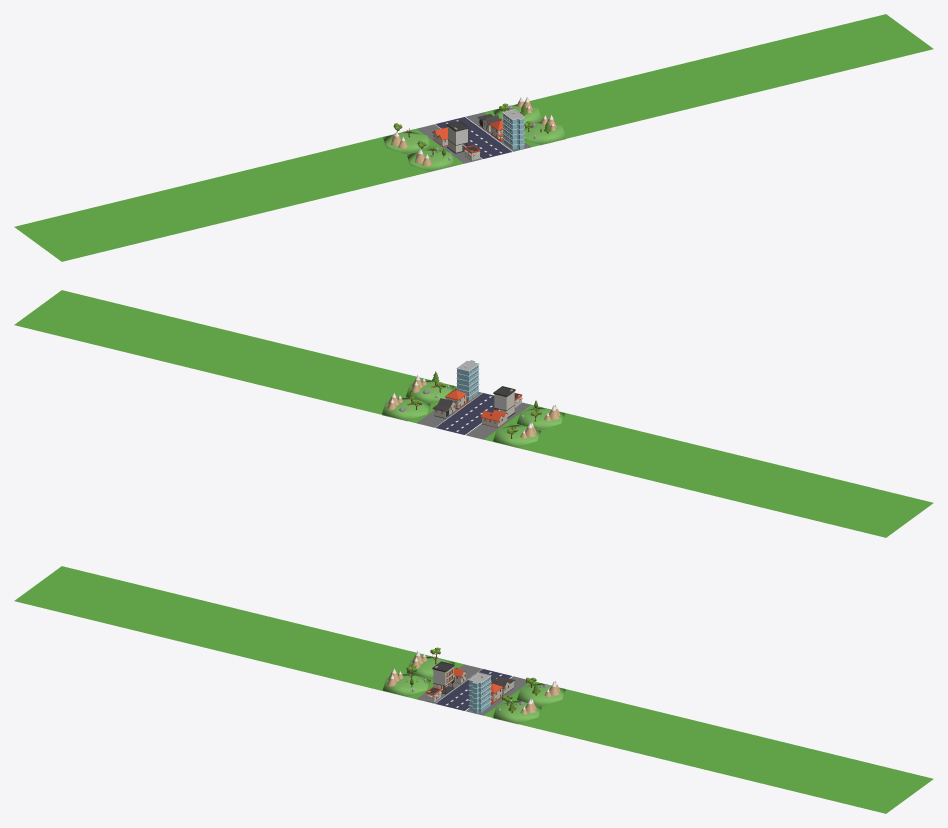
Rendered from naseljev5.glb.
The picture shows the model from 3 angles, top to bottom: view 1: azimuth 30°, elevation 25°; view 2: azimuth 150°, elevation 25°; view 3: azimuth 330°, elevation 25°; orthographic projection.
Parts seen in each view (by area): view 1: Plane.007, Plane.003, Plane.005, Plane.004, apartments1.002_Plane.008, Plane.008, Object_8.002, Box002, Object_8.001, Object_8.004; view 2: Plane.004, Plane.005, Plane.003, Plane.007, apartments1.002_Plane.008, Box002_RoadBase_0.001, Object_8.005, Object_8.004, Object_8.002, Object_8.001, Plane.002, Plane.006; view 3: Plane.005, Plane.003, Plane.007, Plane.004, apartments1.002_Plane.008, Plane.008, Object_8.002, Object_8.001, Object_8.005, Box002.
Boxes of the visible parts, x1,y1,x2,y2 form: Plane.007: [14, 128, 439, 244]; Plane.003: [524, 31, 933, 147]; Plane.005: [484, 14, 909, 122]; Plane.004: [38, 146, 463, 261]; apartments1.002_Plane.008: [502, 109, 525, 149]; Plane.008: [367, 154, 420, 181]; Object_8.002: [407, 149, 454, 171]; Box002: [462, 134, 512, 159]; Object_8.001: [524, 122, 565, 145]; Object_8.004: [383, 131, 430, 153]; Plane.004: [508, 404, 933, 520]; Plane.005: [14, 307, 436, 423]; Plane.003: [38, 290, 456, 404]; Plane.007: [484, 422, 909, 537]; apartments1.002_Plane.008: [456, 360, 479, 400]; Box002_RoadBase_0.001: [436, 410, 481, 434]; Object_8.005: [382, 397, 430, 421]; Object_8.004: [493, 425, 541, 447]; Object_8.002: [517, 407, 564, 429]; Object_8.001: [406, 380, 454, 402]; Plane.002: [417, 409, 507, 439]; Plane.006: [537, 430, 580, 457]; Plane.005: [511, 681, 933, 796]; Plane.003: [484, 699, 909, 813]; Plane.007: [38, 566, 463, 679]; Plane.004: [14, 583, 433, 699]; apartments1.002_Plane.008: [468, 672, 491, 713]; Plane.008: [343, 664, 407, 691]; Object_8.002: [383, 674, 430, 696]; Object_8.001: [493, 701, 541, 724]; Object_8.005: [517, 683, 565, 706]; Box002: [435, 686, 469, 711].
Size of the model in its own units: 1307 by 50.89 by 124.
21 materials, 7 textured.
